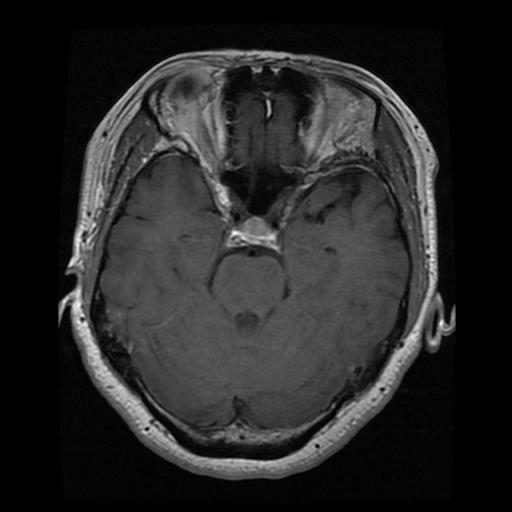Tumour-Pituitary: (213, 219, 294, 261)
